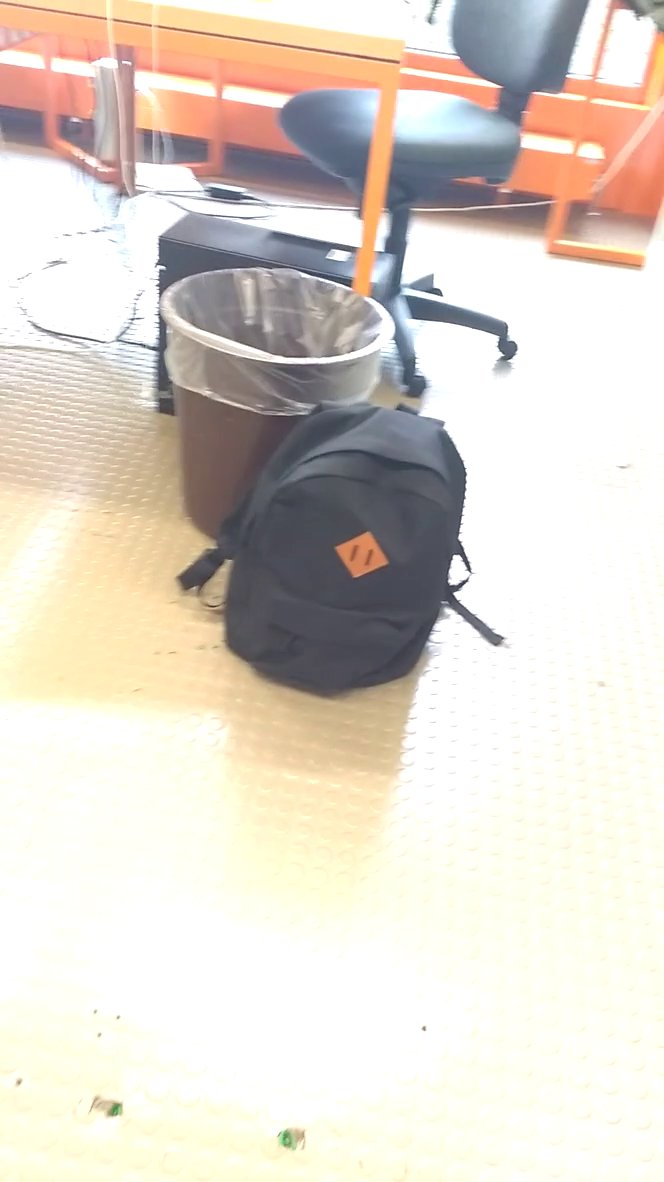bag: (207, 397, 480, 705)
bin: (151, 253, 394, 469)
chair: (275, 1, 604, 372)
